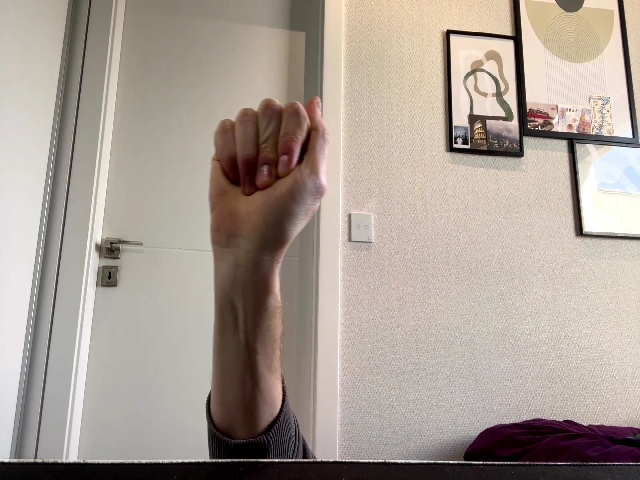A: (209, 97, 329, 267)
